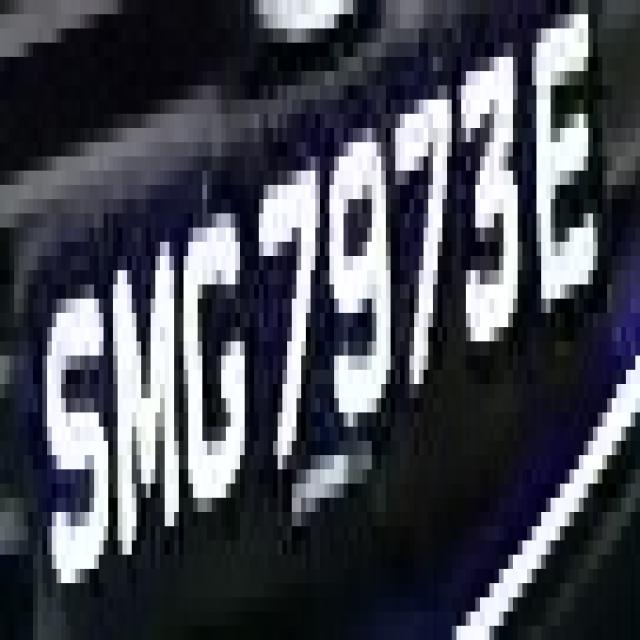3: (452, 28, 513, 356)
7: (376, 99, 466, 441), (240, 156, 320, 512)
9: (320, 128, 400, 469)
E: (532, 0, 602, 356)
G: (170, 156, 250, 526)
M: (99, 213, 188, 569)
S: (28, 228, 108, 612)
